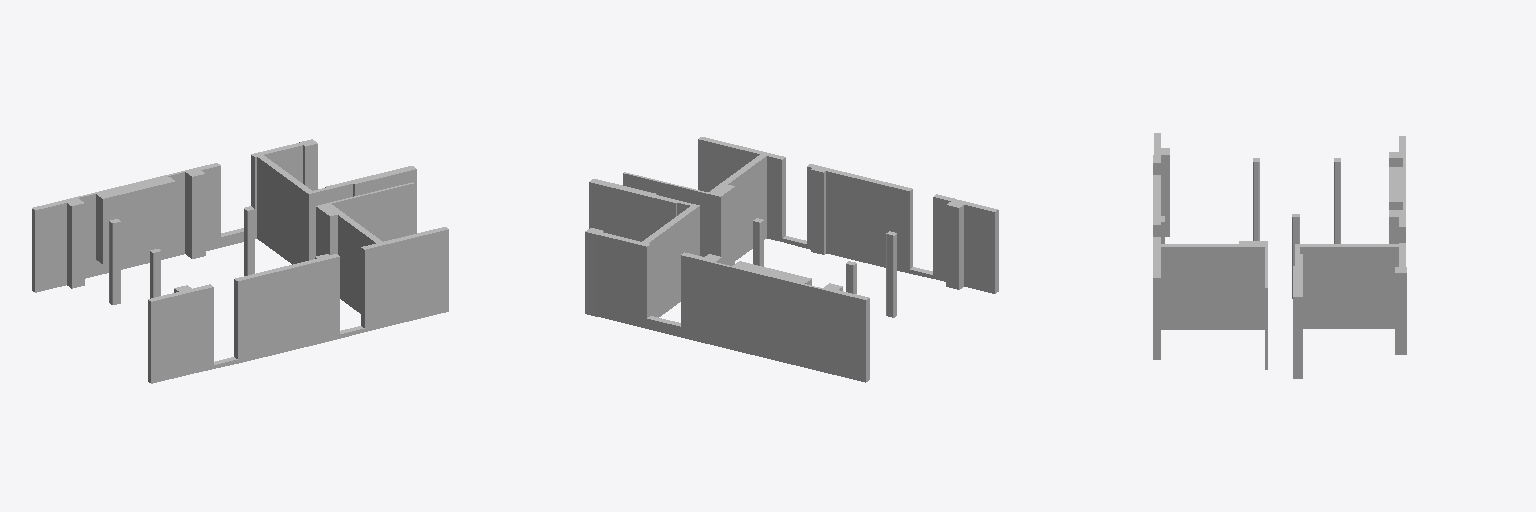
Rendered from wall.obj.
The picture shows the model from 3 angles: view 1: azimuth 30°, elevation 25°; view 2: azimuth 150°, elevation 25°; view 3: azimuth 270°, elevation 25°; orthographic projection.
Visible parts, largest first — view 1: Walls; view 2: Walls; view 3: Walls.
Part boxes in pixels (x1,y1,x2,y2): Walls: (32,139,448,383); Walls: (585,137,998,382); Walls: (1153,133,1406,378).
Bounding box in the file's own units: 20.68 × 4.89 × 13.54.